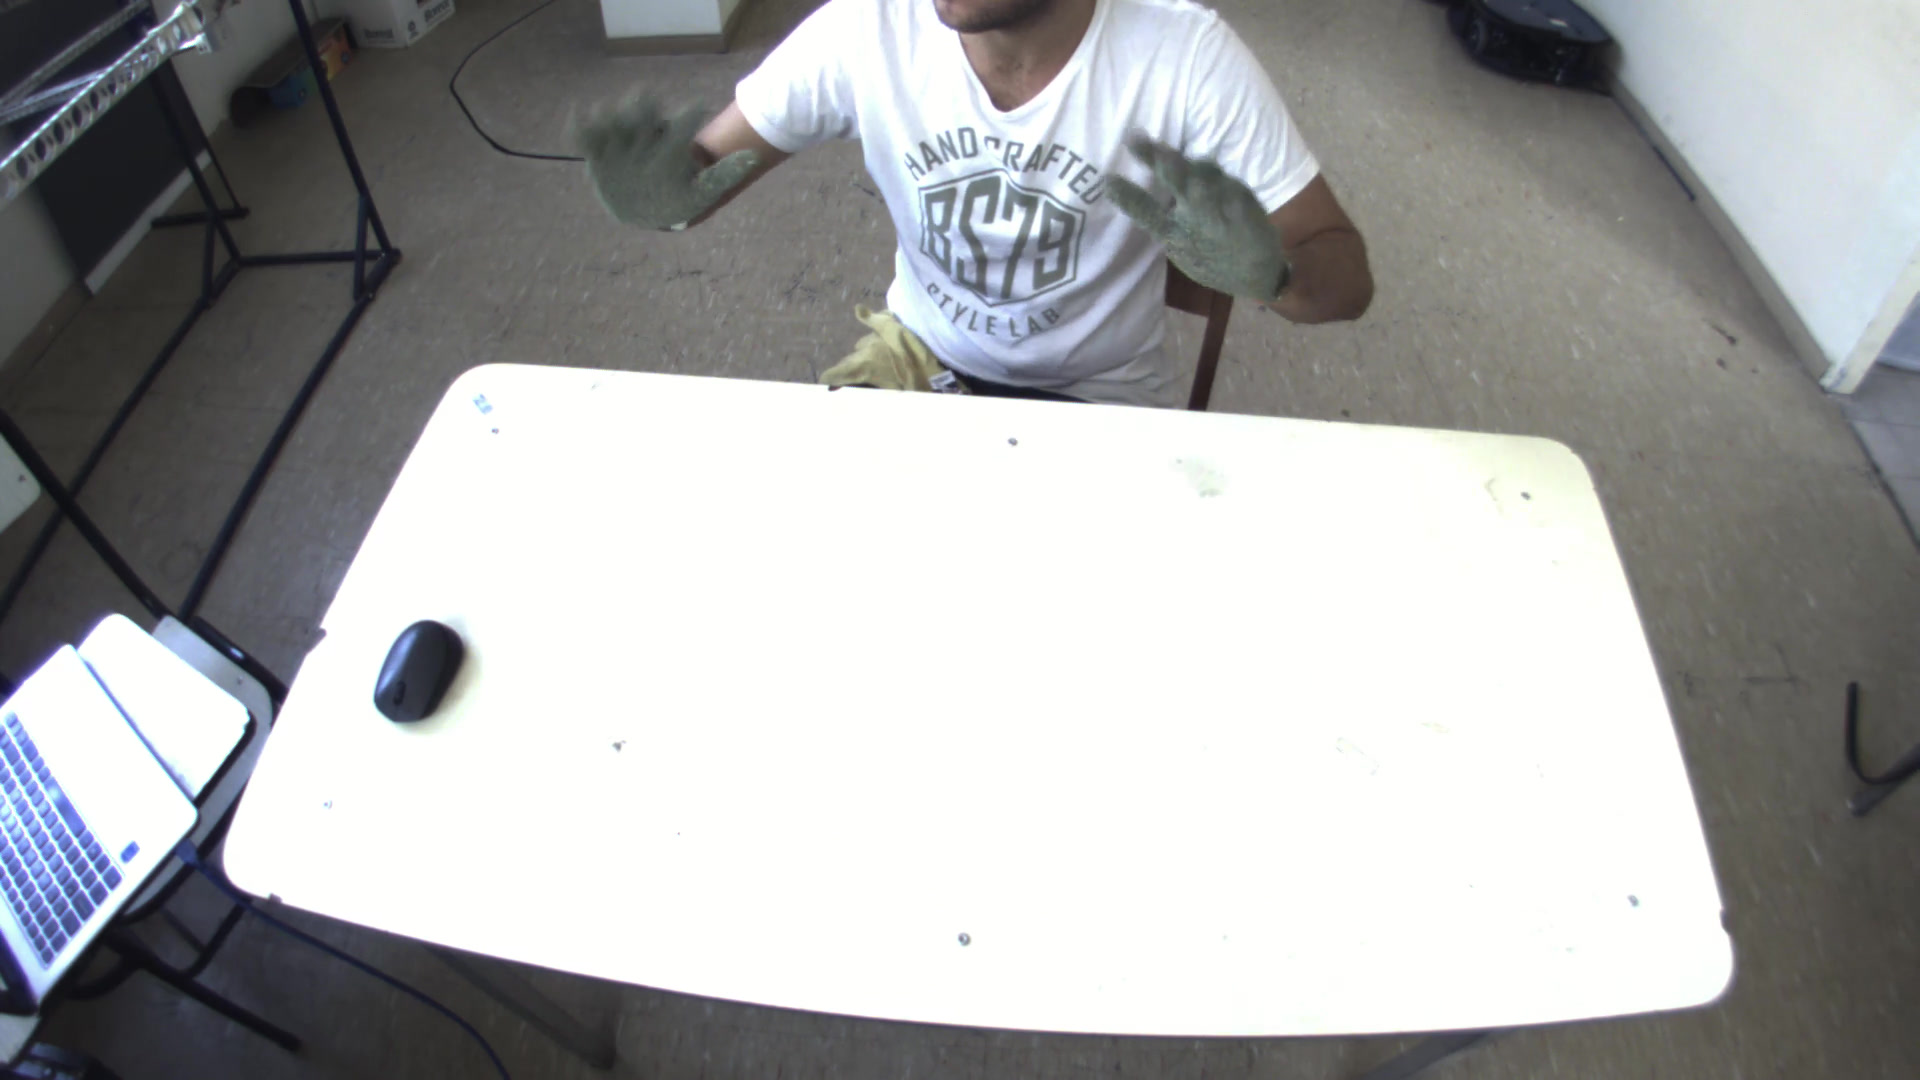hand: (1095, 133, 1298, 299), (563, 80, 765, 247)
